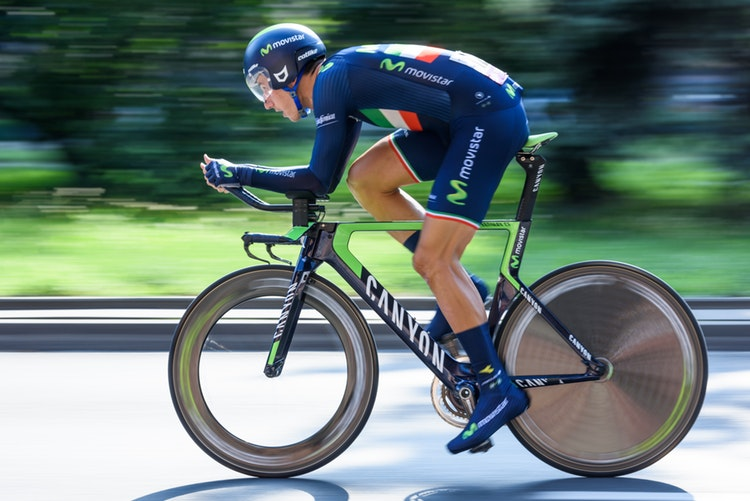helmet: (242, 21, 329, 80)
